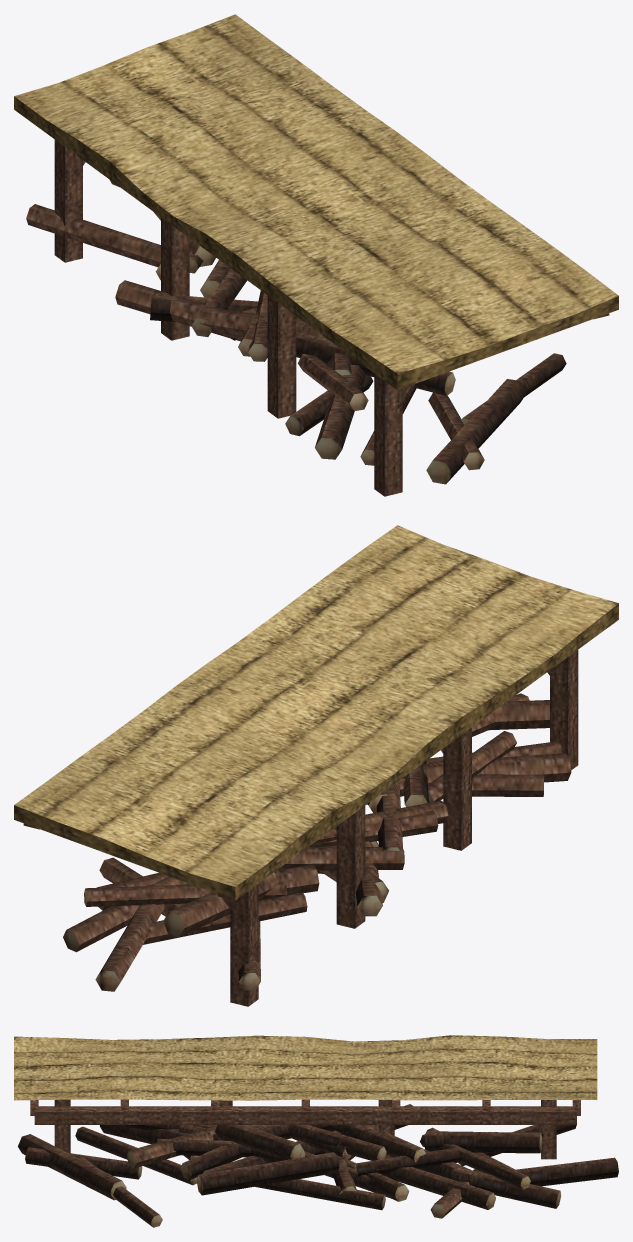
The model's file is pristresek-uhlir.glb.
The picture shows the model from 3 angles, top to bottom: view 1: azimuth 30°, elevation 25°; view 2: azimuth 150°, elevation 25°; view 3: azimuth 270°, elevation 25°; orthographic projection. The views are drawn at different scales.
Visible parts, largest first — view 1: pristresek-uhlir; view 2: pristresek-uhlir; view 3: pristresek-uhlir.
Boxes of the visible parts, x1,y1,x2,y2 form: pristresek-uhlir: [14, 14, 618, 496]; pristresek-uhlir: [14, 525, 618, 1006]; pristresek-uhlir: [14, 1035, 618, 1227].
Bounding box in the file's own units: 2.65 × 1.54 × 6.47.
Materials: 1 (1 with a texture image).
